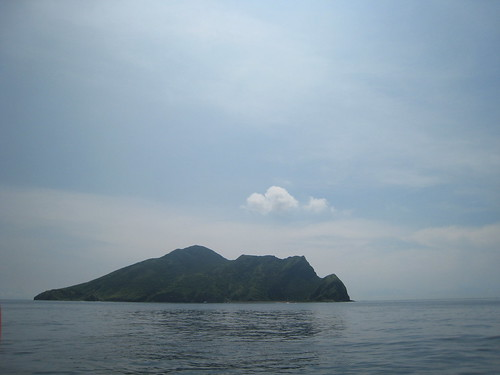turtleIsland: (35, 245, 350, 301)
